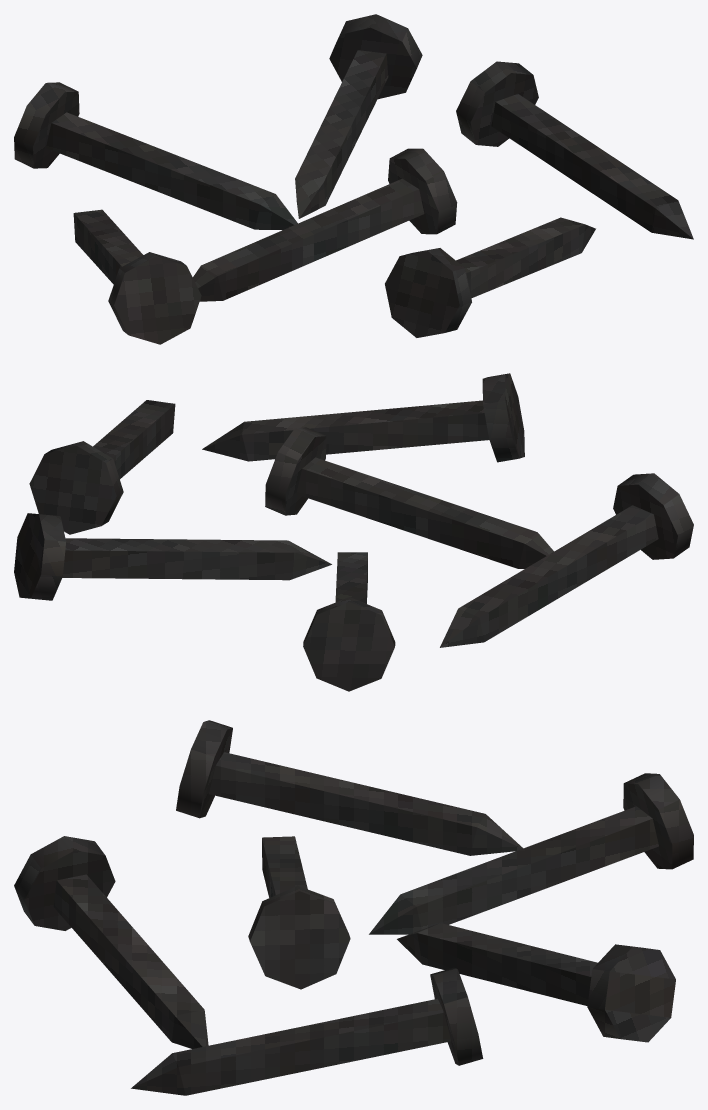
The model's file is nails_1.glb.
3 views of the same model, one above another, from view 1: azimuth 30°, elevation 25°; view 2: azimuth 150°, elevation 25°; view 3: azimuth 270°, elevation 25° (orthographic). The views are drawn at different scales.
Parts seen in each view (by area): view 1: nails_1; view 2: nails_1; view 3: nails_1.
Part boxes in pixels (left/top/right/bottom): nails_1: left=14, top=14, right=693, bottom=344; nails_1: left=14, top=373, right=693, bottom=691; nails_1: left=14, top=720, right=693, bottom=1095.
Size of the model in its own units: 0.1405 by 0.0211 by 0.1348.
Materials: 1 (1 with a texture image).
